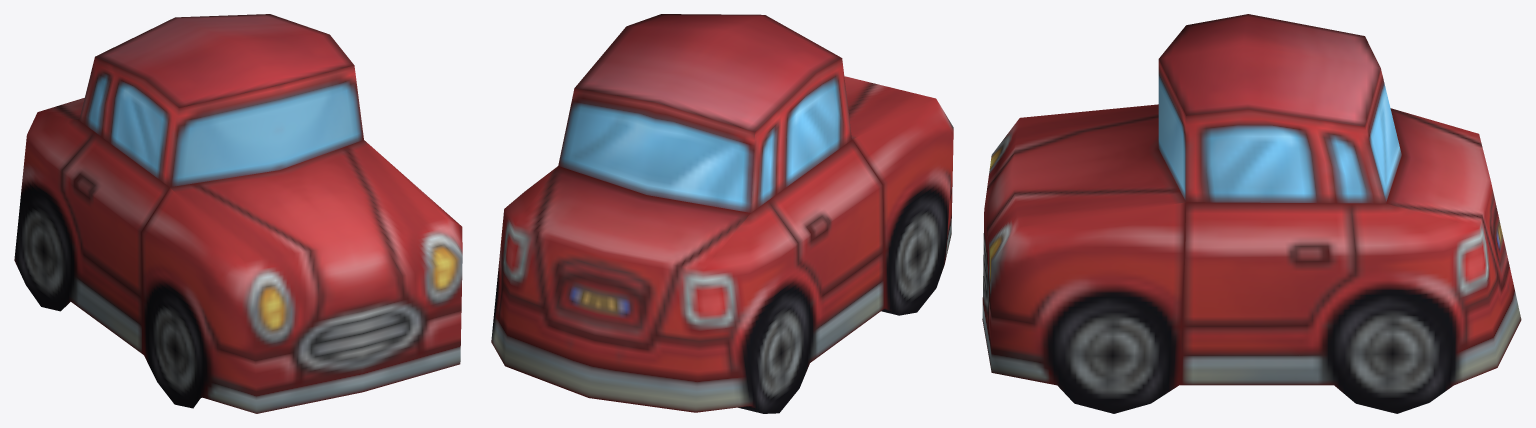
The model's file is RordRun_ExtraCar01_Red.FBX.
3 views of the same model, side by side, from view 1: azimuth 30°, elevation 25°; view 2: azimuth 150°, elevation 25°; view 3: azimuth 270°, elevation 25° (orthographic). The views are drawn at different scales.
Parts seen in each view (by area): view 1: RordRun_ExtraCar01_Red; view 2: RordRun_ExtraCar01_Red; view 3: RordRun_ExtraCar01_Red.
Boxes of the visible parts, x1,y1,x2,y2 form: RordRun_ExtraCar01_Red: (14, 14, 462, 413); RordRun_ExtraCar01_Red: (491, 14, 953, 413); RordRun_ExtraCar01_Red: (982, 14, 1521, 413).
Size of the model in its own units: 92.58 by 100 by 161.
